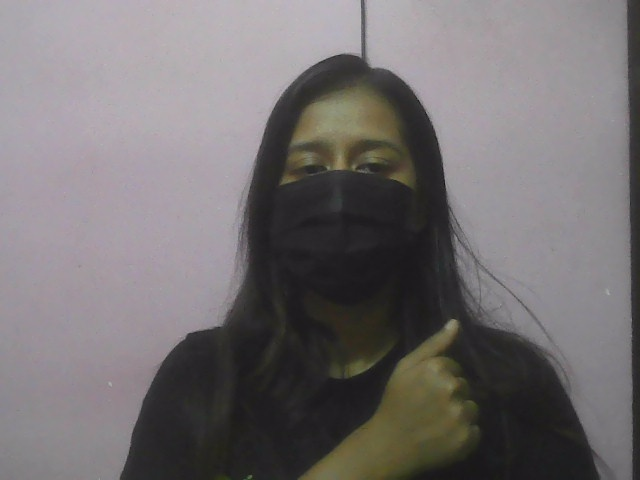Sorry: (349, 313, 507, 479)
